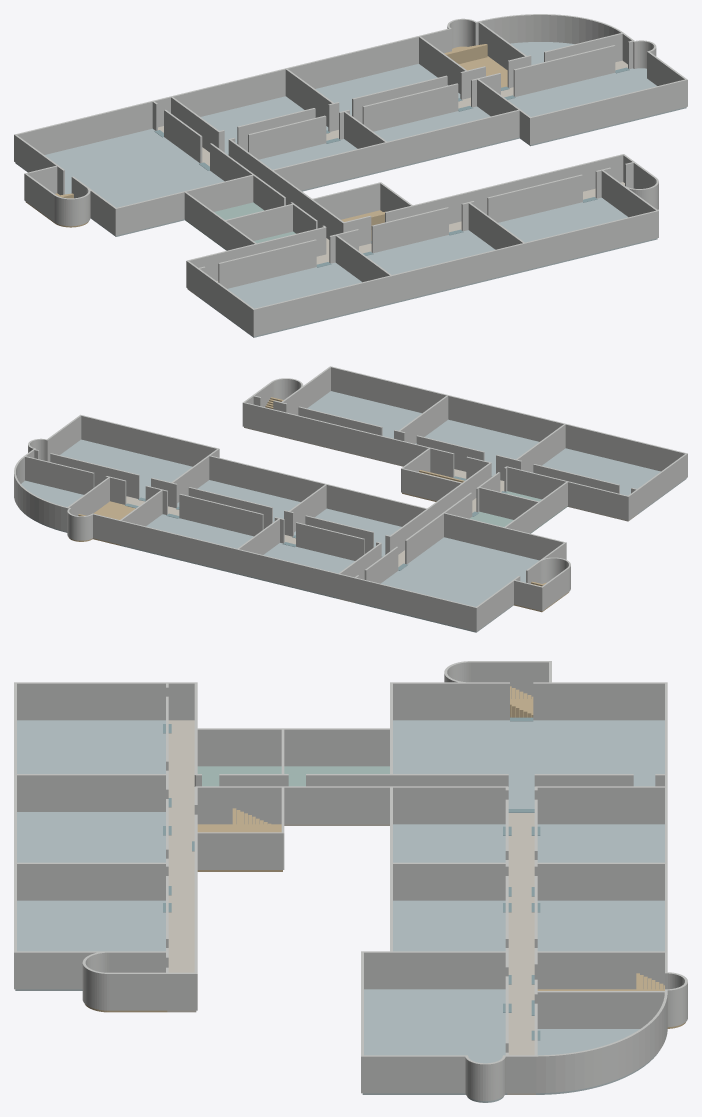
File: mingde-2F.glb
3 views of the same model, one above another, from view 1: azimuth 30°, elevation 25°; view 2: azimuth 150°, elevation 25°; view 3: azimuth 270°, elevation 25° (orthographic). The views are drawn at different scales.
Visible parts, largest first — view 1: floor_1, floor_1_stairs-northeast_step9; view 2: floor_1; view 3: floor_1.
Boxes of the visible parts, x1=… form: floor_1: x1=14, y1=14, x2=687, y2=337; floor_1_stairs-northeast_step9: x1=445, y1=44, x2=487, y2=63; floor_1: x1=14, y1=366, x2=687, y2=632; floor_1: x1=14, y1=661, x2=687, y2=1102.
Bounding box in the file's own units: 66 × 2.98 × 46.6.
